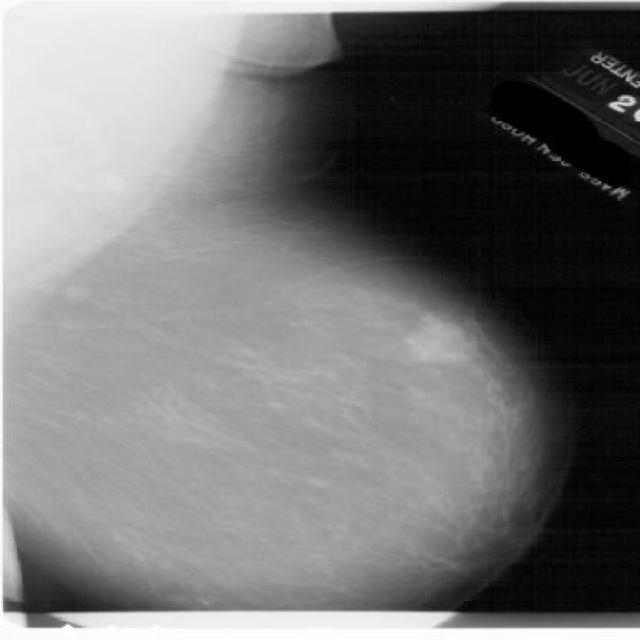tumor: (283, 278, 502, 388)
